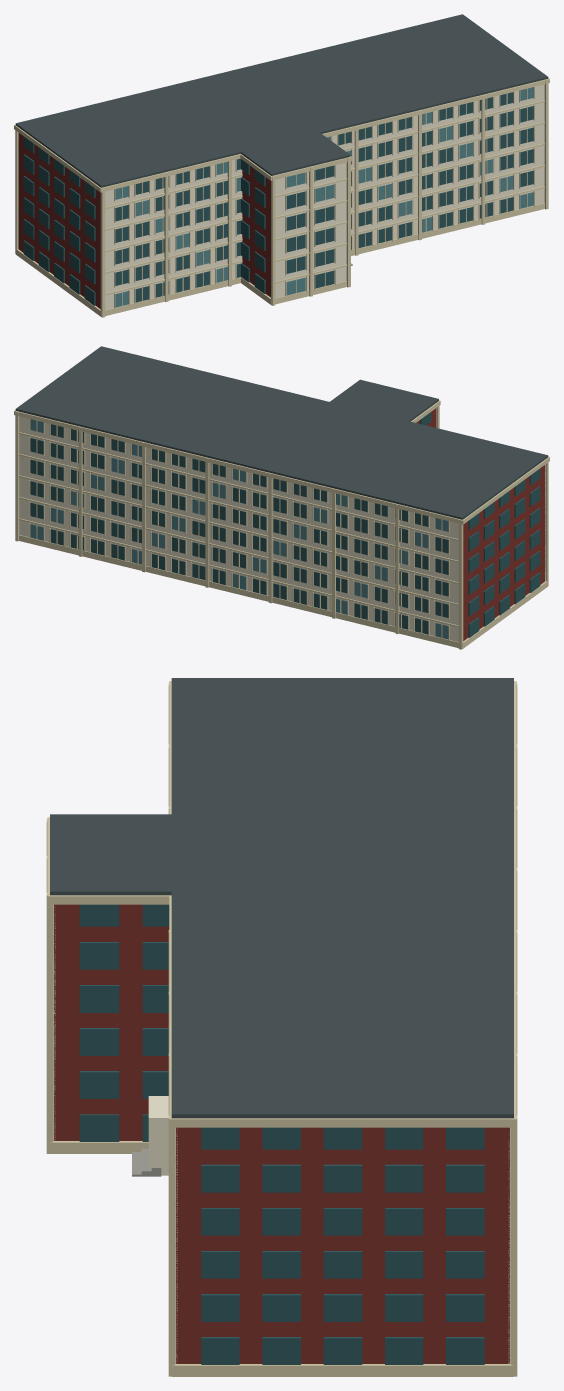
The picture shows the model from 3 angles, top to bottom: view 1: azimuth 30°, elevation 25°; view 2: azimuth 150°, elevation 25°; view 3: azimuth 270°, elevation 25°; orthographic projection. The views are drawn at different scales.
Visible parts, largest first — view 1: MainBlock_Roof, MainBlock_Light_Fascia, MainBlock_WindowGlass, MainBlock_WindowFrames, MainBlock_Structure, MainBlock_SideWindows, MainBlock_Pilasters, CentralStair_Roof, CentralStair_Light_Fascia, MainBlock_FloorBands, CentralStair_WindowGlass, MainBlock_Plinth (+8 smaller); view 2: MainBlock_Roof, MainBlock_Light_Fascia, MainBlock_WindowGlass, MainBlock_WindowFrames, MainBlock_FloorBands, MainBlock_Structure, MainBlock_Pilasters, MainBlock_SideWindows, CentralStair_Roof, MainBlock_Plinth, MainBlock_Cornice; view 3: MainBlock_Roof, MainBlock_Structure, MainBlock_SideWindows, CentralStair_Roof, CentralStair_Structure, CentralStair_SideWindows, MainBlock_Cornice, MainBlock_Pilasters, MainBlock_Plinth, CentralStair_Pilasters, CentralStair_Cornice, CentralStair_Plinth (+2 smaller).
Part boxes in pixels (box(x1,y1,x2,y2)): MainBlock_Roof: box(15, 14, 548, 187); MainBlock_Light_Fascia: box(18, 84, 544, 309); MainBlock_WindowGlass: box(115, 87, 533, 307); MainBlock_WindowFrames: box(114, 87, 534, 308); MainBlock_Structure: box(18, 133, 100, 308); MainBlock_SideWindows: box(23, 136, 95, 305); MainBlock_Pilasters: box(15, 79, 548, 317); CentralStair_Roof: box(215, 114, 350, 175); CentralStair_Light_Fascia: box(275, 162, 346, 298); MainBlock_FloorBands: box(18, 100, 544, 295); CentralStair_WindowGlass: box(286, 165, 334, 295); MainBlock_Plinth: box(16, 203, 544, 316); MainBlock_Roof: box(15, 346, 548, 519); MainBlock_Light_Fascia: box(19, 416, 545, 641); MainBlock_WindowGlass: box(30, 419, 448, 639); MainBlock_WindowFrames: box(29, 419, 449, 640); MainBlock_FloorBands: box(19, 432, 545, 627); MainBlock_Structure: box(463, 465, 545, 640); MainBlock_Pilasters: box(15, 411, 548, 649); MainBlock_SideWindows: box(468, 468, 540, 637); CentralStair_Roof: box(304, 379, 438, 439); MainBlock_Plinth: box(19, 535, 547, 648); MainBlock_Cornice: box(14, 410, 549, 524); MainBlock_Roof: box(171, 678, 513, 1118); MainBlock_Structure: box(176, 1127, 509, 1363); MainBlock_SideWindows: box(201, 1127, 484, 1364); CentralStair_Roof: box(50, 814, 275, 895); CentralStair_Structure: box(54, 904, 169, 1140); CentralStair_SideWindows: box(79, 904, 169, 1141); MainBlock_Cornice: box(169, 681, 516, 1127); MainBlock_Pilasters: box(168, 683, 517, 1376); MainBlock_Plinth: box(172, 1364, 513, 1376); CentralStair_Pilasters: box(46, 819, 52, 1153); CentralStair_Cornice: box(47, 817, 169, 904); CentralStair_Plinth: box(50, 1141, 148, 1153).
Bounding box in the file's own units: 74.2 × 20.73 × 33.65.
